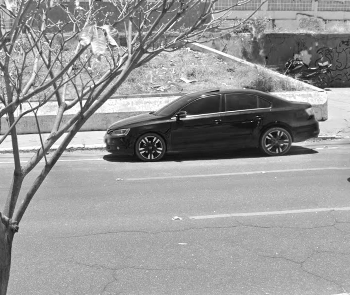car: (102, 84, 322, 166)
